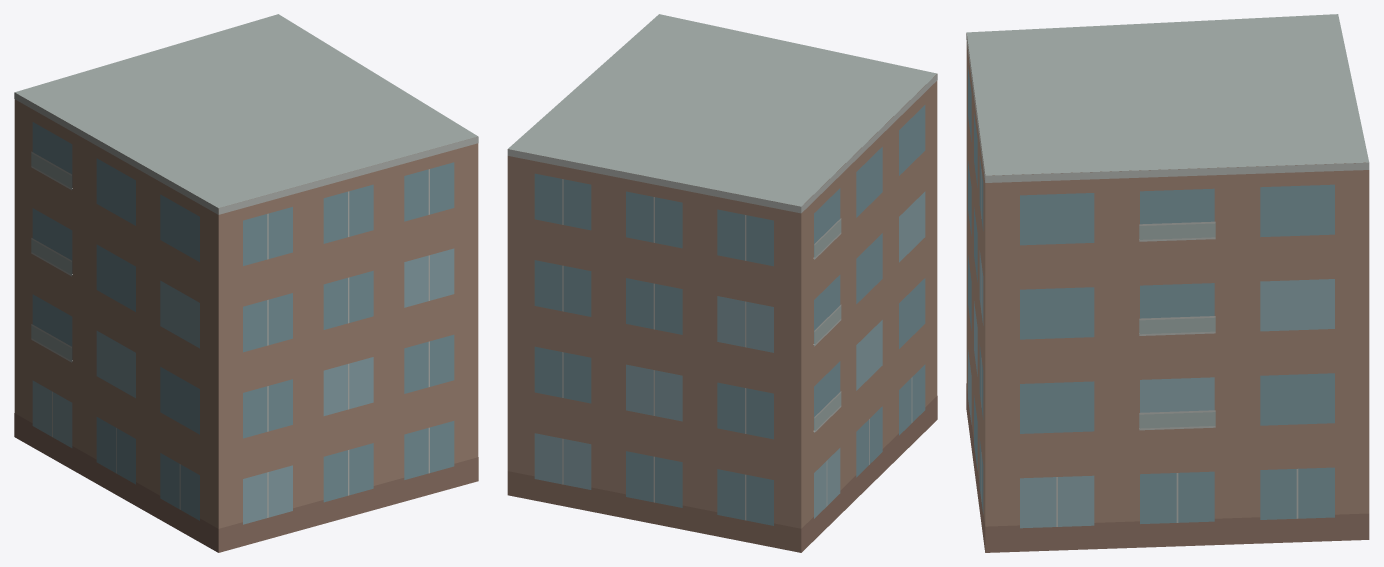
File: survey-upis-32775460.glb
3 renders of one model, left to right at view 1: azimuth 30°, elevation 25°; view 2: azimuth 150°, elevation 25°; view 3: azimuth 270°, elevation 25°, orthographic. The views are drawn at different scales.
Visible parts, largest first — view 1: survey-upis-32775460.tmp; view 2: survey-upis-32775460.tmp; view 3: survey-upis-32775460.tmp.
Part boxes in pixels (x1,y1,x2,y2): survey-upis-32775460.tmp: (14,14,478,552); survey-upis-32775460.tmp: (507,14,937,552); survey-upis-32775460.tmp: (966,14,1369,552).
Size of the model in its own units: 11.5 by 12.5 by 12.11.
